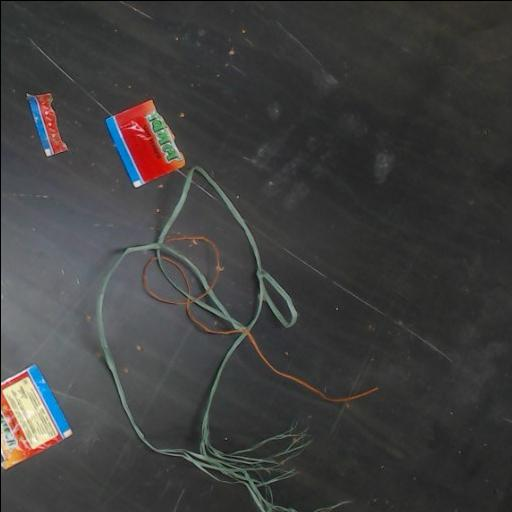conveyor belt: (1, 1, 512, 512), (105, 254, 230, 449)
packet: (1, 365, 70, 468), (106, 100, 184, 187), (29, 95, 65, 155)
thread: (96, 166, 377, 512)
